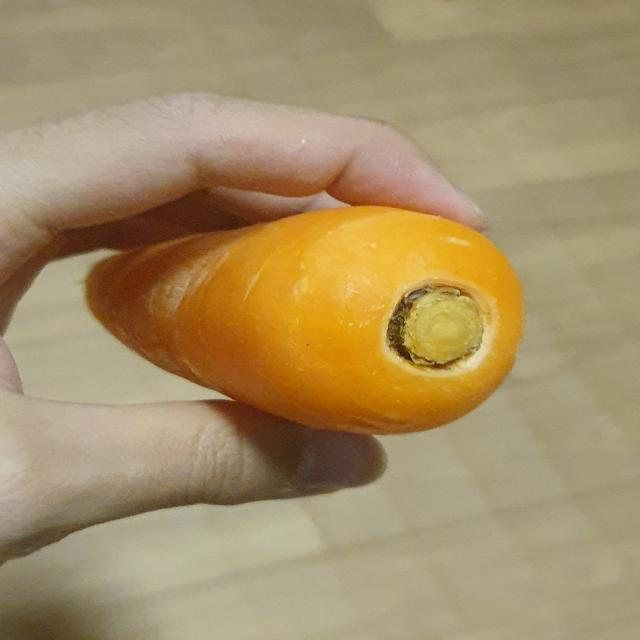carrot: (74, 190, 538, 444)
